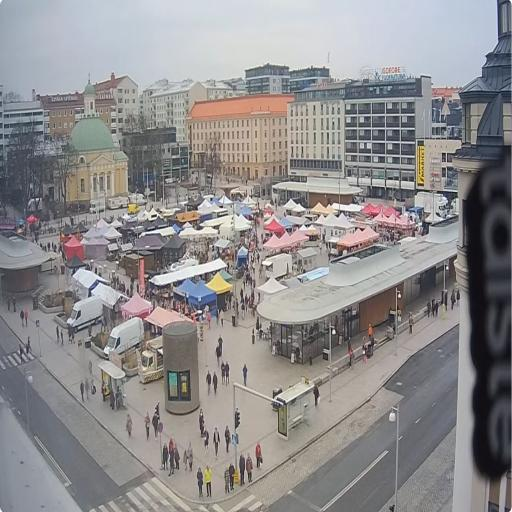Delivery: (104, 318, 143, 358), (67, 297, 102, 332), (137, 336, 163, 383)
